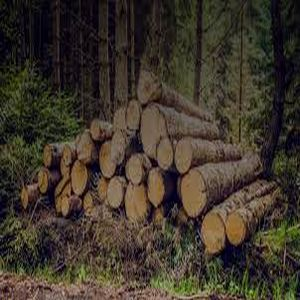log: (138, 102, 170, 161), (179, 167, 209, 219), (198, 208, 228, 256), (122, 180, 151, 226), (132, 67, 158, 105), (145, 168, 169, 208), (173, 137, 196, 176), (69, 158, 90, 197), (125, 153, 149, 187), (225, 211, 248, 246), (154, 137, 176, 173), (106, 176, 128, 211), (123, 99, 144, 135), (97, 141, 117, 178), (74, 131, 95, 165), (109, 130, 128, 165), (35, 168, 53, 196), (87, 119, 104, 142), (19, 186, 33, 212), (41, 143, 55, 168), (81, 190, 95, 214), (61, 144, 74, 166), (60, 195, 72, 218)
